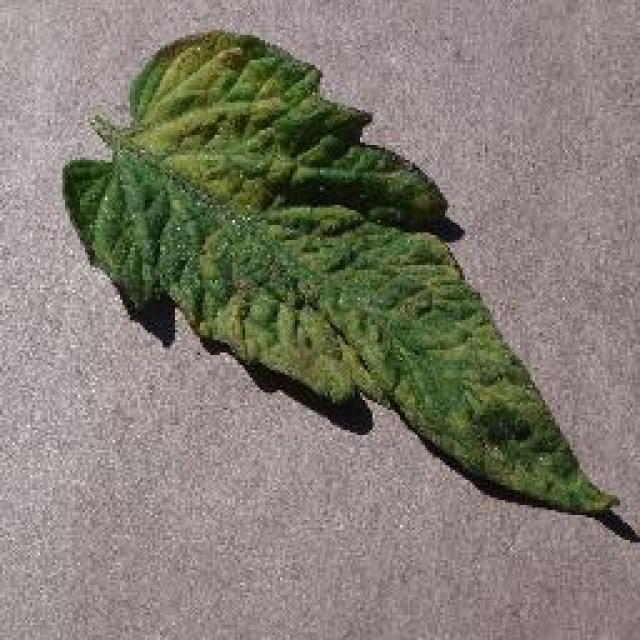Tomato___Leaf_Mold: (65, 30, 615, 512)
